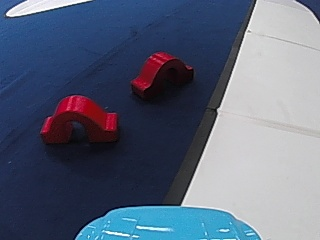bridge: (36, 90, 119, 146), (127, 47, 195, 102)
